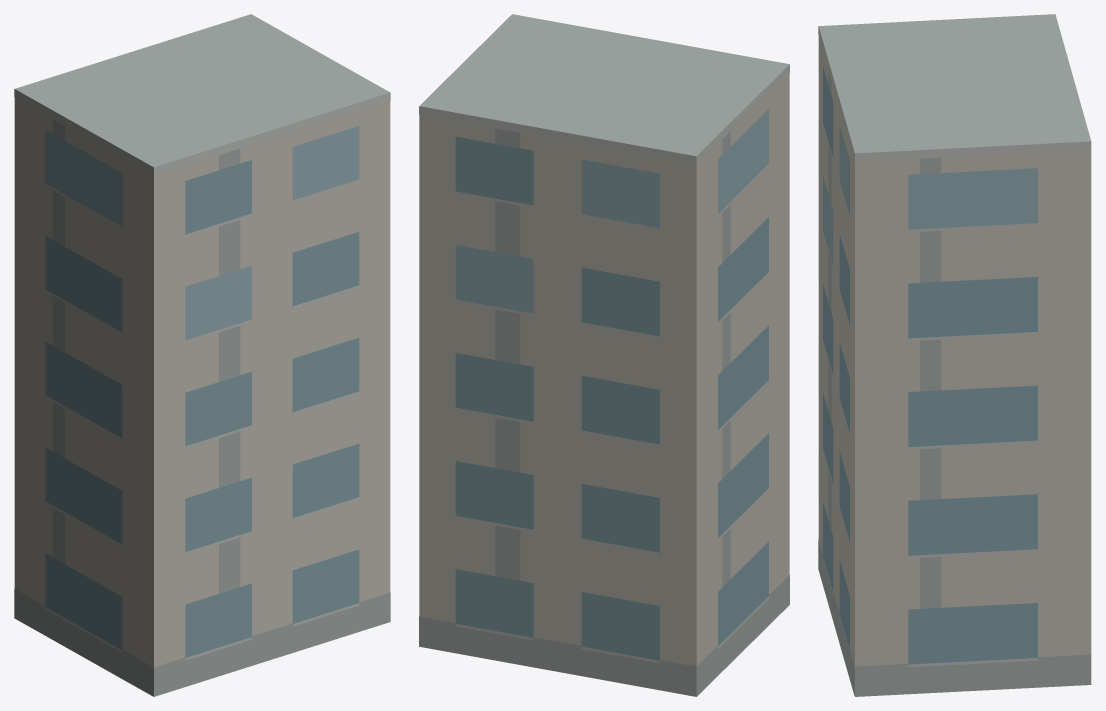
The model's file is residential-4345cfbc-b393-4754-adfd-b913eb6f45a5.glb.
3 renders of one model, left to right at view 1: azimuth 30°, elevation 25°; view 2: azimuth 150°, elevation 25°; view 3: azimuth 270°, elevation 25°, orthographic. The views are drawn at different scales.
Parts seen in each view (by area): view 1: residential-4345cfbc-b393-4754-adfd-b913eb6f45a5.tmp; view 2: residential-4345cfbc-b393-4754-adfd-b913eb6f45a5.tmp; view 3: residential-4345cfbc-b393-4754-adfd-b913eb6f45a5.tmp.
Boxes of the visible parts, bbox=[...] form: residential-4345cfbc-b393-4754-adfd-b913eb6f45a5.tmp: bbox=[14, 14, 390, 696]; residential-4345cfbc-b393-4754-adfd-b913eb6f45a5.tmp: bbox=[419, 14, 789, 696]; residential-4345cfbc-b393-4754-adfd-b913eb6f45a5.tmp: bbox=[818, 14, 1091, 696].
Bounding box in the file's own units: 8.4 × 15.25 × 6.95.
